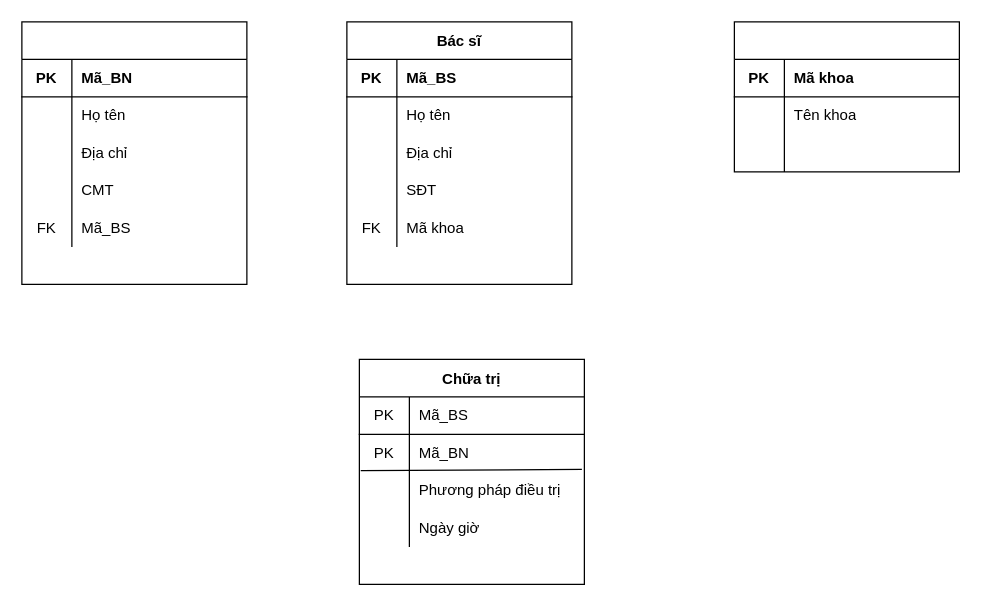
The diagram is 981 pixels wide and 606 high, and some of its shapes have lost their labels. The box of each missing label's shape, as (x1, y1, x2, y2) in pixels:
Bệnh Nhân: (21, 21, 247, 284)
Chuyên Khoa: (733, 21, 959, 172)
